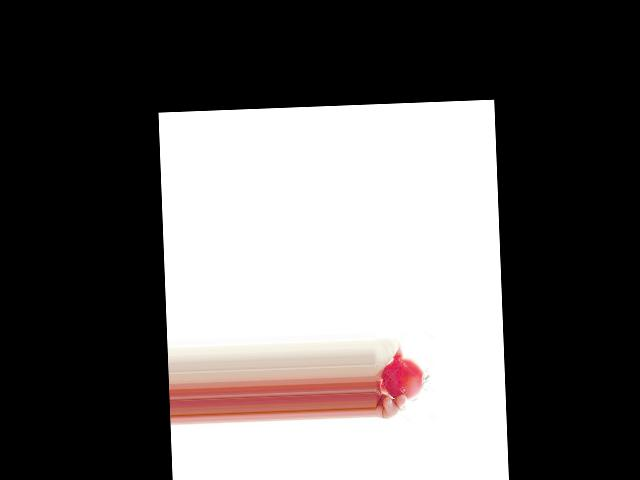tomato: (381, 356, 426, 402)
